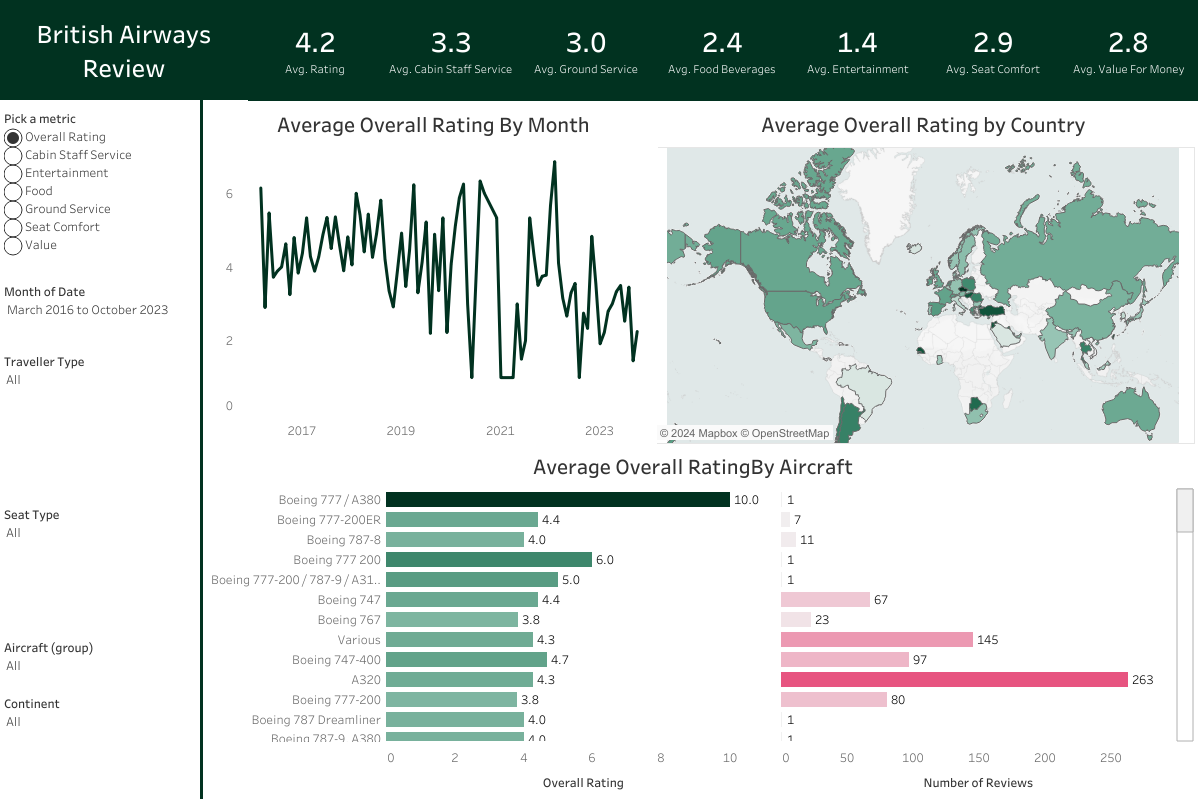

This screenshot's page, from the dashboard's own definition file:
{"tool":"tableau","page":{"name":"Dashboard 1","canvas":[1200,800],"ordinal":0},"visuals":[{"type":"text","box":[0,0,248,100]},{"type":"worksheet","title":"Summary","mark":"Automatic","box":[248,0,949,100]},{"type":"blank","box":[200,100,3,700]},{"type":"parameter","param":"[Parameters].[Parameter 1]","box":[0,104,200,173.5]},{"type":"worksheet","title":"Month","mark":"Automatic","rows":["Calculation_1803410233774563328"],"cols":["date"],"box":[210,104,447,340]},{"type":"worksheet","title":"Map","mark":"Automatic","box":[652,104,543,340]},{"type":"filter","title":"Map","param":"[federated.06w4se51edwfh411cs5rj1waft3q].[tmn:date:qk]","box":[0,277.5,200,73]},{"type":"filter","title":"Map","param":"[federated.06w4se51edwfh411cs5rj1waft3q].[none:traveller_type:nk]","box":[0,350.5,200,173.5]},{"type":"worksheet","title":"Aircraft","mark":"Automatic","cols":["Calculation_1803410233774563328","ba_reviews.csv_CDC78503BF9547B3A86B27299E4E51BF"],"box":[210,446,985,352]},{"type":"filter","title":"Map","param":"[federated.06w4se51edwfh411cs5rj1waft3q].[none:seat_type:nk]","box":[0,524,200,151]},{"type":"filter","title":"Map","param":"[federated.06w4se51edwfh411cs5rj1waft3q].[Aircraft (group)]","box":[0,675,200,61]},{"type":"filter","title":"Map","param":"[federated.06w4se51edwfh411cs5rj1waft3q].[none:Continent:nk]","box":[0,736,200,61]}]}

Visuals, with their boxes in screenshot pixels (x1, y1, x2, y2), scaled from the page's 1200x800 canvas onto the 1199x799 screenshot:
text: region(0, 0, 248, 100)
"Summary" worksheet: region(248, 0, 1196, 100)
blank: region(200, 100, 203, 798)
parameter: region(0, 104, 200, 277)
"Month" worksheet: region(210, 104, 656, 443)
"Map" worksheet: region(651, 104, 1194, 443)
"Map" filter: region(0, 277, 200, 350)
"Map" filter: region(0, 350, 200, 523)
"Aircraft" worksheet: region(210, 445, 1194, 797)
"Map" filter: region(0, 523, 200, 674)
"Map" filter: region(0, 674, 200, 735)
"Map" filter: region(0, 735, 200, 796)
